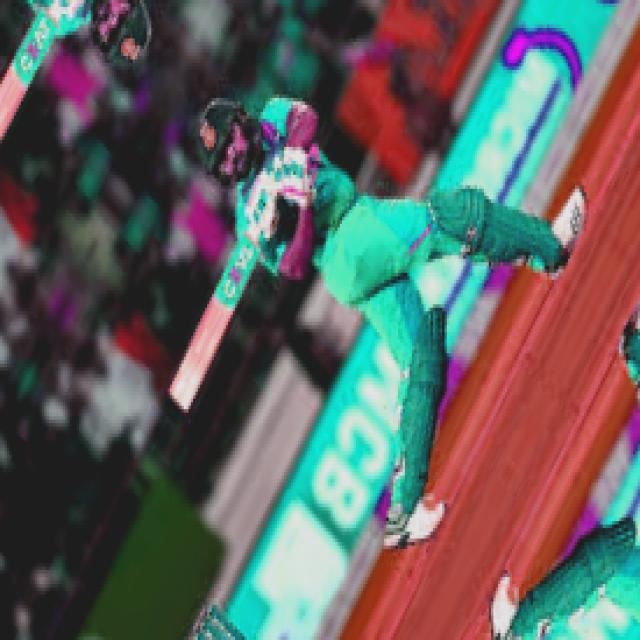toe: (165, 383, 192, 417)
